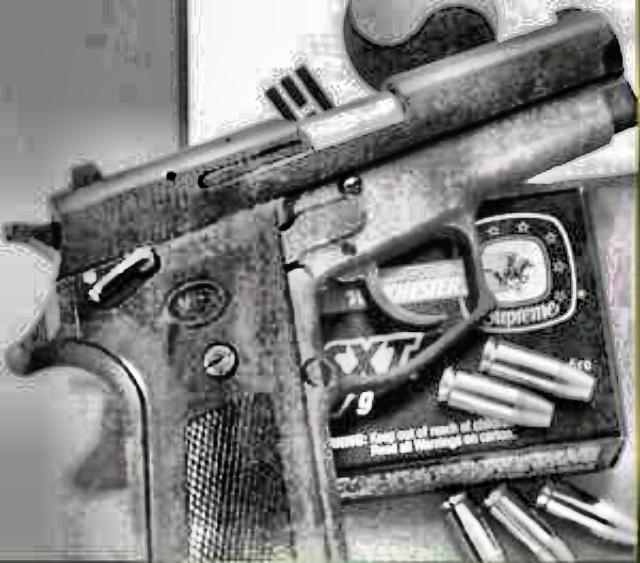pistol: (7, 5, 636, 557)
